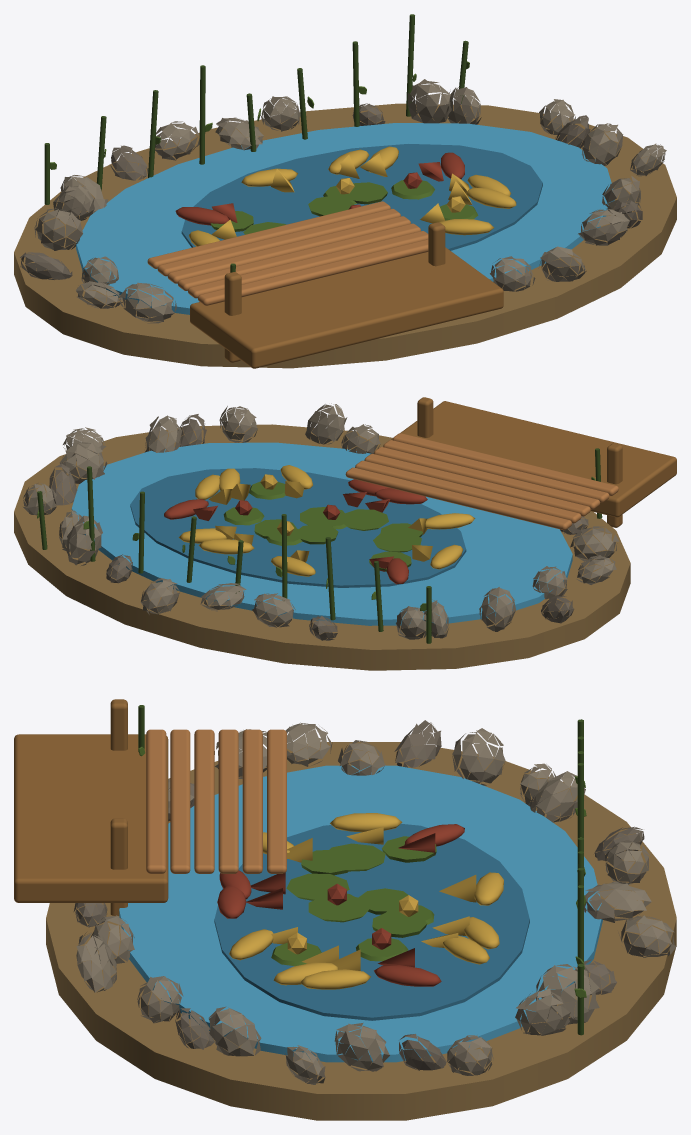
File: koi-pond.glb
3 renders of one model, top to bottom at view 1: azimuth 30°, elevation 25°; view 2: azimuth 150°, elevation 25°; view 3: azimuth 270°, elevation 25°, orthographic. The views are drawn at different scales.
Parts seen in each view (by area): view 1: koi-pond-farm-dirt, koi-pond-farm-water, koi-pond-farm-wood-dark, koi-pond-farm-stone, koi-pond-farm-wood-light, koi-pond-farm-water-deep, koi-pond-farm-gold, koi-pond-farm-leaf-dark, koi-pond-farm-rock, koi-pond-farm-leaf, koi-pond-farm-barn-red; view 2: koi-pond-farm-dirt, koi-pond-farm-water, koi-pond-farm-stone, koi-pond-farm-water-deep, koi-pond-farm-wood-light, koi-pond-farm-wood-dark, koi-pond-farm-gold, koi-pond-farm-leaf, koi-pond-farm-leaf-dark, koi-pond-farm-rock, koi-pond-farm-barn-red; view 3: koi-pond-farm-dirt, koi-pond-farm-water, koi-pond-farm-stone, koi-pond-farm-water-deep, koi-pond-farm-wood-dark, koi-pond-farm-wood-light, koi-pond-farm-gold, koi-pond-farm-leaf, koi-pond-farm-rock, koi-pond-farm-barn-red, koi-pond-farm-leaf-dark.
Boxes of the visible parts, box(x1,y1,x2,y2) form: koi-pond-farm-dirt: box(14, 103, 676, 368); koi-pond-farm-water: box(76, 123, 614, 314); koi-pond-farm-wood-dark: box(190, 222, 503, 368); koi-pond-farm-stone: box(34, 79, 666, 323); koi-pond-farm-wood-light: box(147, 201, 428, 305); koi-pond-farm-water-deep: box(181, 144, 542, 250); koi-pond-farm-gold: box(188, 146, 516, 246); koi-pond-farm-leaf-dark: box(44, 14, 468, 272); koi-pond-farm-rock: box(20, 103, 642, 279); koi-pond-farm-leaf: box(50, 61, 478, 234); koi-pond-farm-barn-red: box(175, 152, 464, 225); koi-pond-farm-dirt: box(14, 424, 630, 670); koi-pond-farm-water: box(71, 442, 572, 625); koi-pond-farm-stone: box(23, 403, 618, 639); koi-pond-farm-water-deep: box(130, 468, 466, 587); koi-pond-farm-wood-light: box(345, 433, 618, 530); koi-pond-farm-wood-dark: box(391, 397, 676, 527); koi-pond-farm-gold: box(178, 465, 475, 576); koi-pond-farm-leaf: box(37, 476, 595, 611); koi-pond-farm-leaf-dark: box(37, 448, 602, 643); koi-pond-farm-rock: box(49, 414, 588, 640); koi-pond-farm-barn-red: box(164, 479, 427, 584); koi-pond-farm-dirt: box(46, 742, 676, 1120); koi-pond-farm-water: box(119, 765, 602, 1062); koi-pond-farm-stone: box(76, 722, 676, 1084); koi-pond-farm-water-deep: box(214, 823, 529, 1020); koi-pond-farm-wood-dark: box(14, 699, 168, 915); koi-pond-farm-wood-light: box(146, 729, 286, 873); koi-pond-farm-gold: box(229, 813, 503, 989); koi-pond-farm-leaf: box(138, 746, 586, 998); koi-pond-farm-rock: box(73, 720, 644, 1070); koi-pond-farm-barn-red: box(217, 824, 464, 986); koi-pond-farm-leaf-dark: box(138, 705, 583, 1035).
Bounding box in the file's own units: 6.21 × 1.24 × 4.94.
